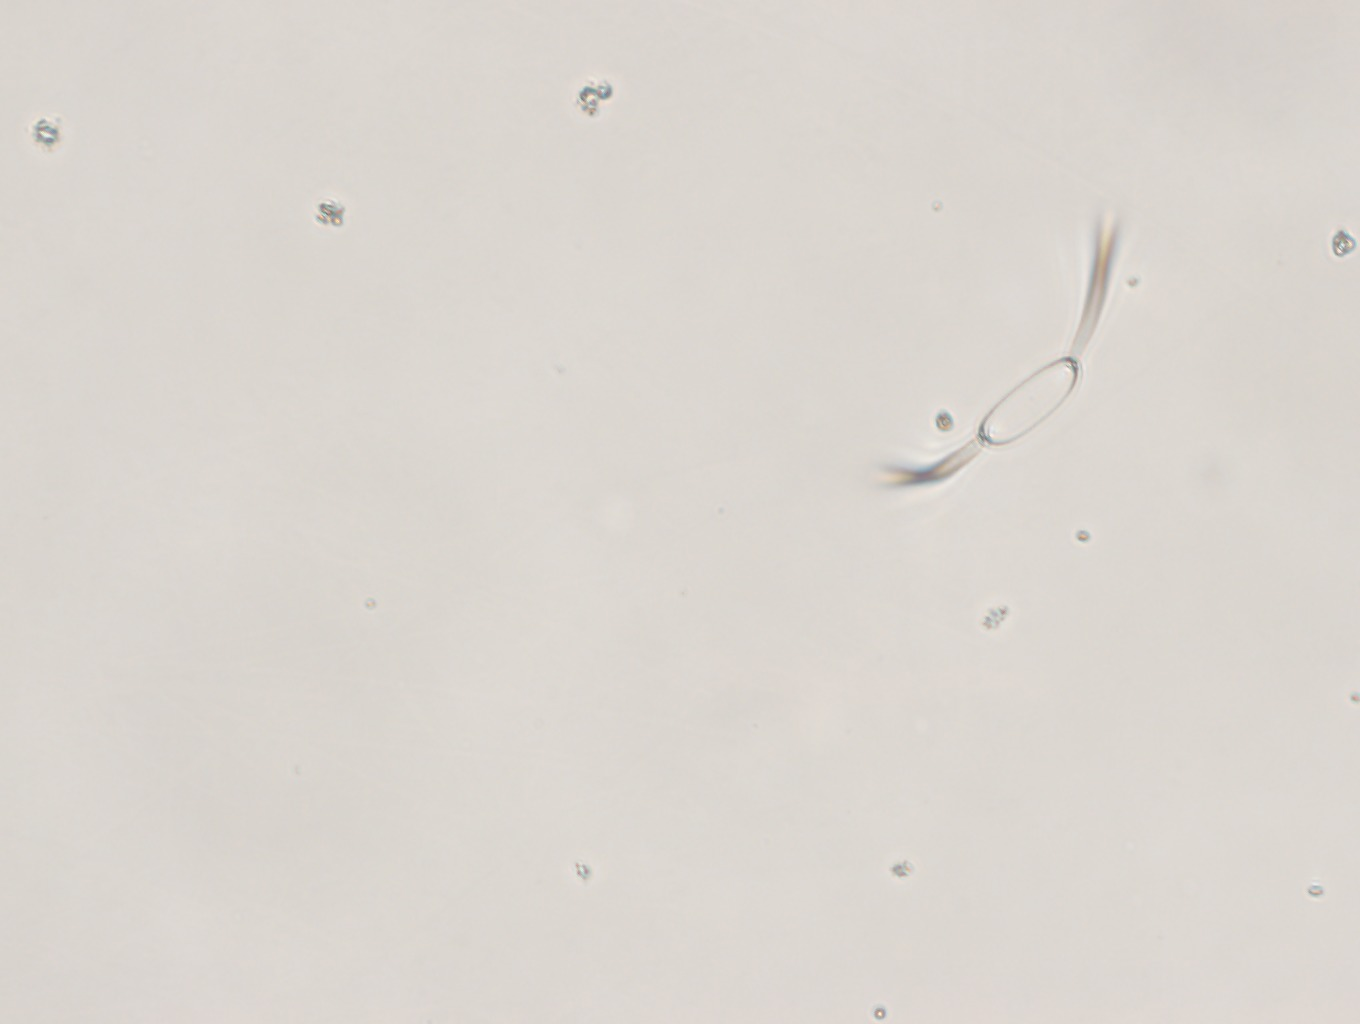chaetoceros: (872, 205, 1139, 499)
